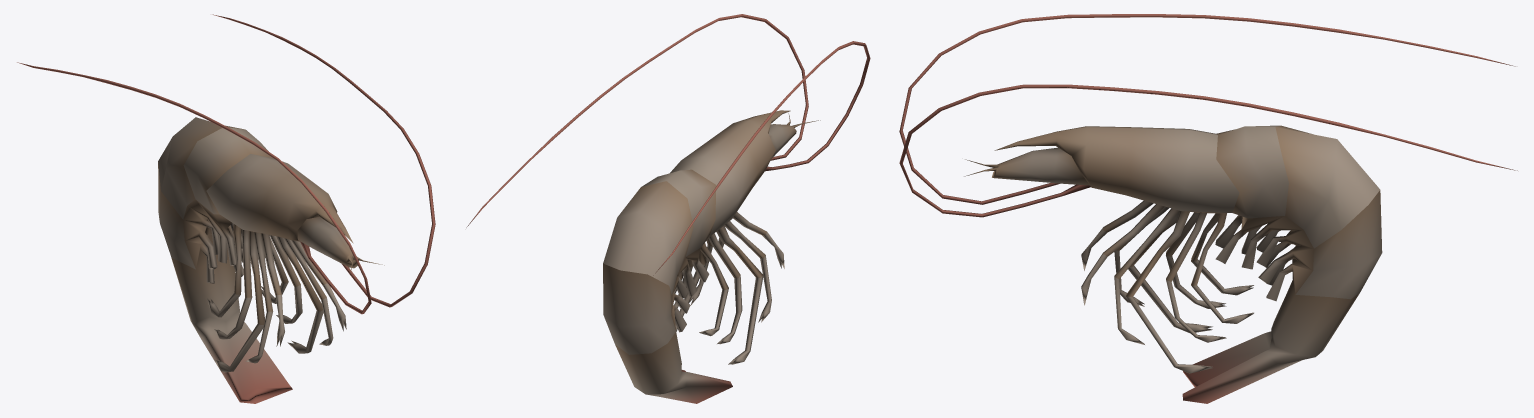
The model's file is underwater-crustaceans-shrimp_v1.fbx.
3 renders of one model, left to right at view 1: azimuth 30°, elevation 25°; view 2: azimuth 150°, elevation 25°; view 3: azimuth 270°, elevation 25°, orthographic. The views are drawn at different scales.
Parts seen in each view (by area): view 1: Shrimp; view 2: Shrimp; view 3: Shrimp.
Part boxes in pixels (box(x1,y1,x2,y2)): Shrimp: box(17, 14, 435, 403); Shrimp: box(466, 14, 870, 403); Shrimp: box(899, 14, 1517, 403).
Size of the model in its own units: 0.0402 by 0.063 by 0.1.
